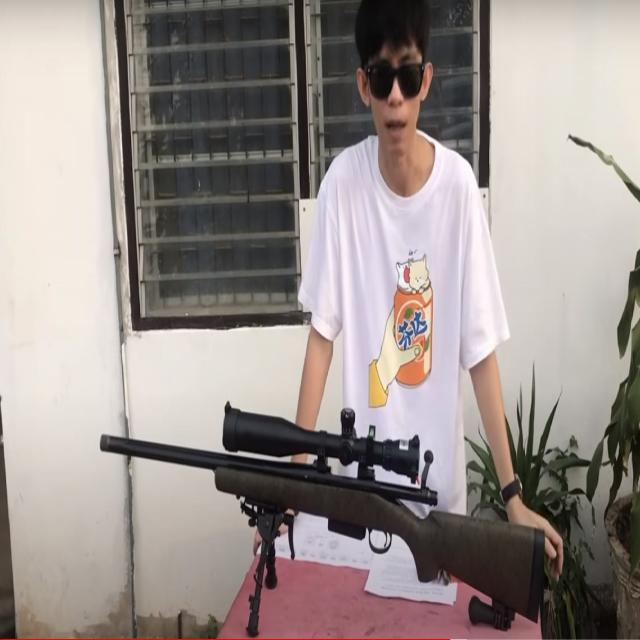rifle: (91, 392, 552, 636)
